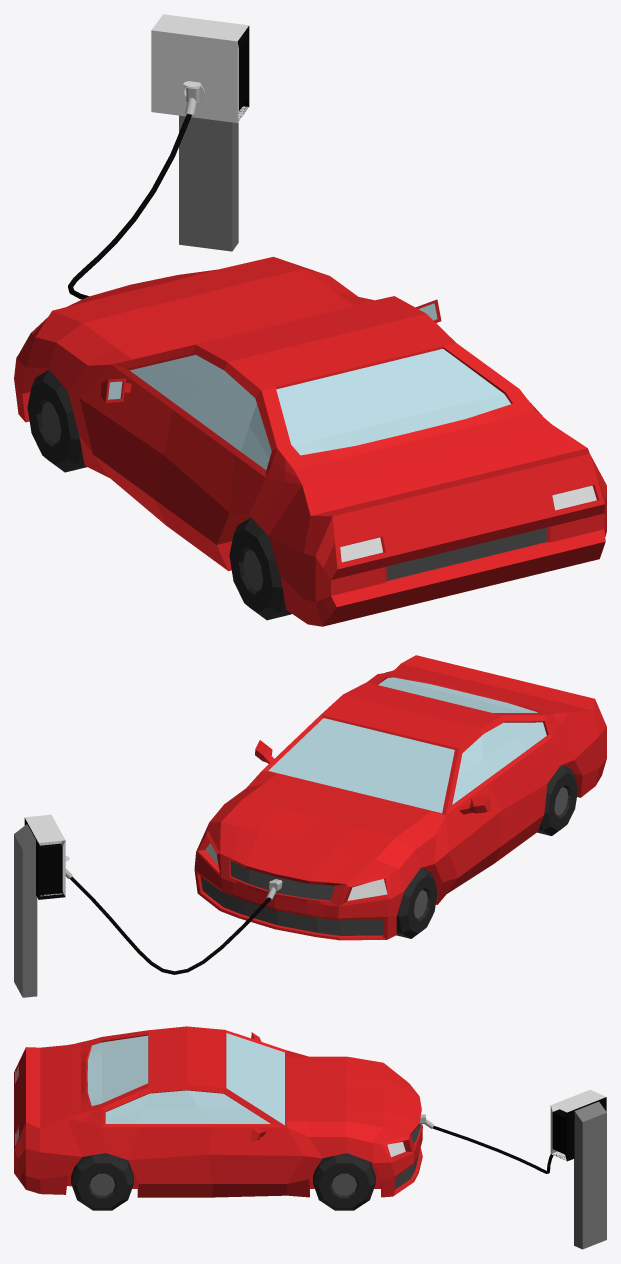
Rendered from RedCar_Charger.fbx.
The picture shows the model from 3 angles, top to bottom: view 1: azimuth 30°, elevation 25°; view 2: azimuth 150°, elevation 25°; view 3: azimuth 270°, elevation 25°; orthographic projection. The views are drawn at different scales.
Visible parts, largest first — view 1: Body_Cube.001, Cube.001, Cube, BackLeftWheel_Cylinder.001, FrontLeftWheel_Cylinder, BezierCurve; view 2: Body_Cube.001, Cube, Cube.001, FrontLeftWheel_Cylinder, BackLeftWheel_Cylinder.001, BezierCurve; view 3: Body_Cube.001, Cube, BackRightWheel_Cylinder.003, FrontRightWheel_Cylinder.002, Cube.001, BezierCurve.
Boxes of the visible parts, x1,y1,x2,y2 form: Body_Cube.001: [14, 256, 606, 626]; Cube.001: [151, 14, 249, 122]; Cube: [179, 115, 238, 251]; BackLeftWheel_Cylinder.001: [229, 517, 291, 620]; FrontLeftWheel_Cylinder: [27, 369, 86, 472]; BezierCurve: [68, 114, 191, 299]; Body_Cube.001: [194, 655, 606, 940]; Cube: [14, 824, 37, 997]; Cube.001: [24, 814, 65, 899]; FrontLeftWheel_Cylinder: [396, 867, 437, 938]; BackLeftWheel_Cylinder.001: [537, 765, 577, 835]; BezierCurve: [70, 876, 271, 974]; Body_Cube.001: [14, 1026, 422, 1197]; Cube: [574, 1101, 606, 1249]; BackRightWheel_Cylinder.003: [71, 1153, 133, 1210]; FrontRightWheel_Cylinder.002: [313, 1153, 375, 1210]; Cube.001: [550, 1089, 606, 1161]; BezierCurve: [432, 1126, 553, 1173].
Size of the model in its own units: 130 by 68.97 by 272.
